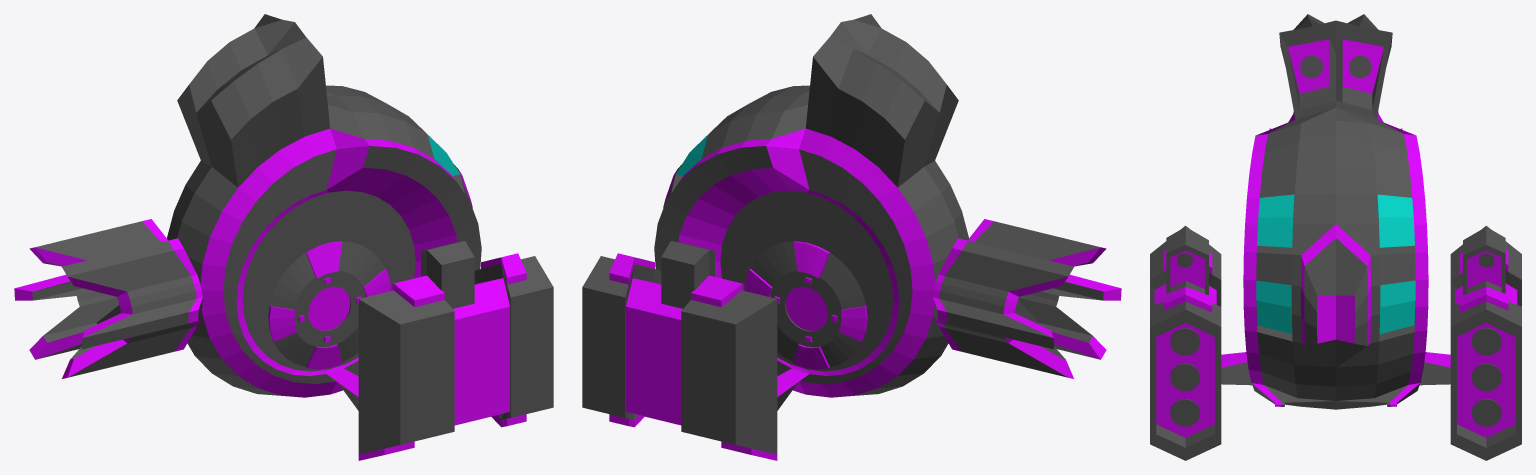
File: Tank2.fbx
3 renders of one model, left to right at view 1: azimuth 30°, elevation 25°; view 2: azimuth 150°, elevation 25°; view 3: azimuth 270°, elevation 25°, orthographic. The views are drawn at different scales.
Visible parts, largest first — view 1: Cylinder; view 2: Cylinder; view 3: Cylinder.
Part boxes in pixels (box(x1,y1,x2,y2)): Cylinder: box(14, 14, 553, 460); Cylinder: box(582, 14, 1121, 460); Cylinder: box(1150, 14, 1521, 460).
Bounding box in the file's own units: 1314 × 1147 × 1044.
